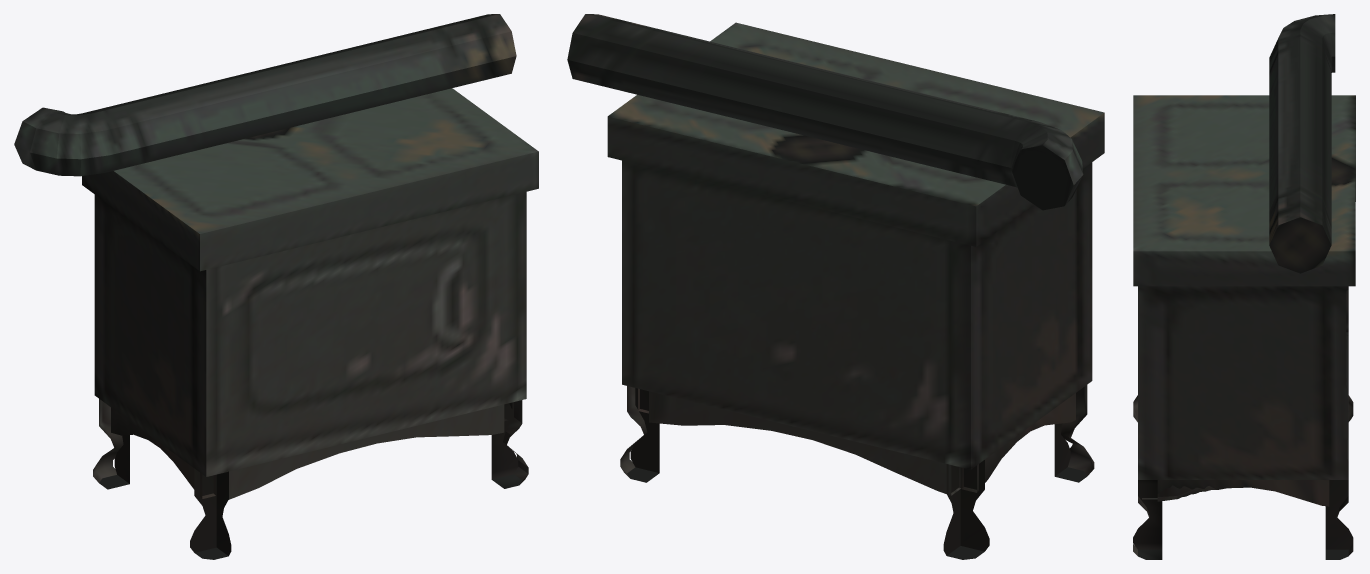
File: W_Antique_Oven.fbx
The picture shows the model from 3 angles, left to right: view 1: azimuth 30°, elevation 25°; view 2: azimuth 150°, elevation 25°; view 3: azimuth 270°, elevation 25°; orthographic projection. The views are drawn at different scales.
Visible parts, largest first — view 1: Handtruck_bottom; view 2: Handtruck_bottom; view 3: Handtruck_bottom.
Boxes of the visible parts, <box> form: Handtruck_bottom: <box>14,14,538,559</box>; Handtruck_bottom: <box>567,14,1104,559</box>; Handtruck_bottom: <box>1133,14,1355,559</box>.
Size of the model in its own units: 0.7922 by 0.6352 by 0.3463.
